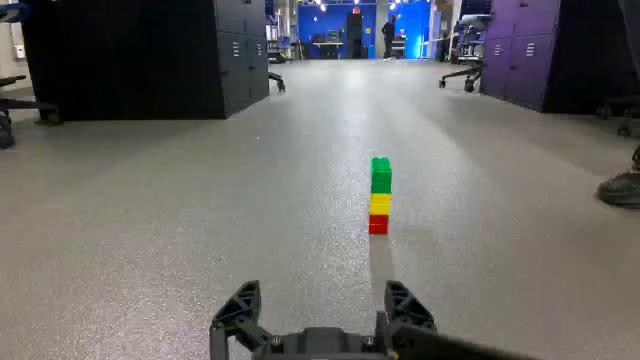lego: (371, 159, 388, 236)
